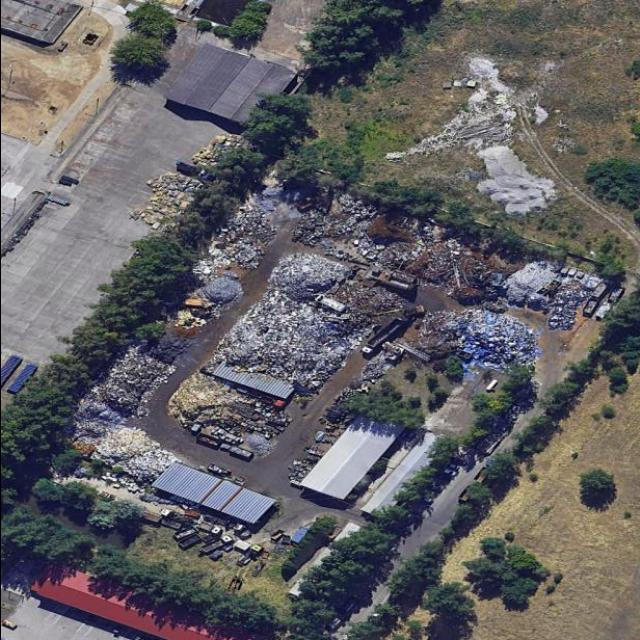dump_site: (352, 205, 529, 309), (216, 287, 371, 393), (409, 297, 564, 383), (160, 369, 296, 458), (196, 184, 307, 274), (286, 185, 383, 262), (85, 345, 178, 418), (311, 276, 412, 340), (116, 165, 207, 233), (256, 249, 351, 306), (538, 268, 602, 336), (493, 255, 564, 314), (77, 423, 162, 467), (109, 445, 183, 483), (188, 128, 247, 171), (191, 271, 251, 309), (355, 343, 403, 387), (72, 393, 132, 425), (63, 411, 129, 440), (227, 445, 251, 458)
